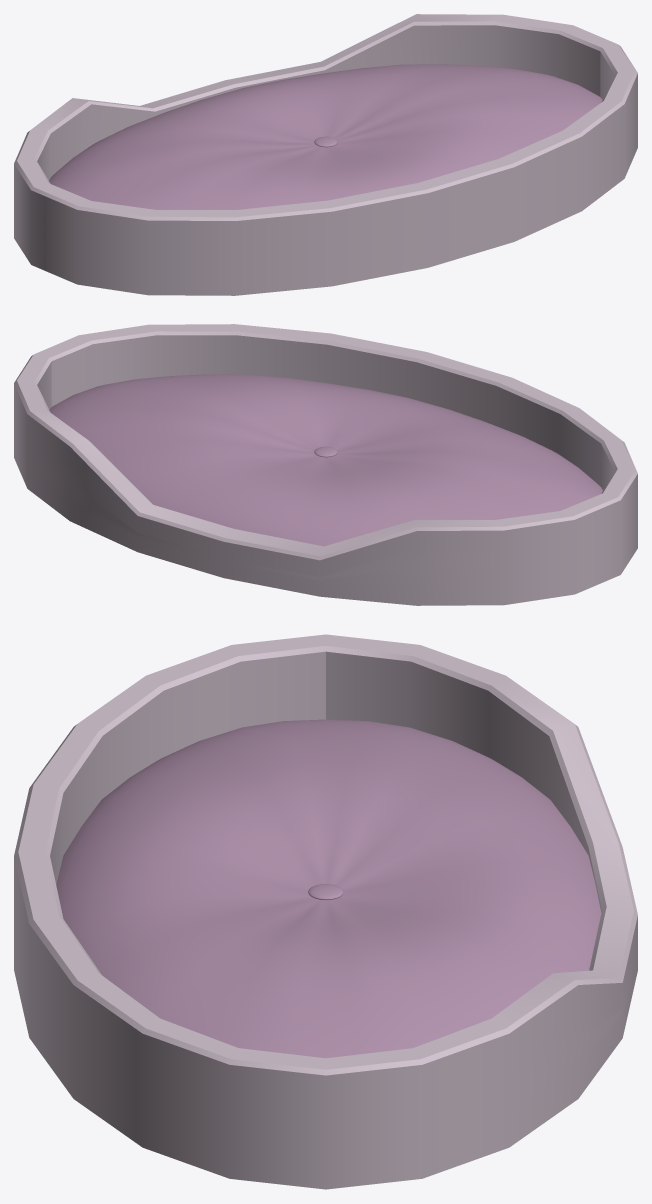
Rendered from panierHP.fbx.
3 renders of one model, top to bottom at view 1: azimuth 30°, elevation 25°; view 2: azimuth 150°, elevation 25°; view 3: azimuth 270°, elevation 25°, orthographic. The views are drawn at different scales.
Visible parts, largest first — view 1: pSphere3; view 2: pSphere3; view 3: pSphere3.
Part boxes in pixels (x1,y1,x2,y2): pSphere3: (14, 14, 637, 295); pSphere3: (14, 324, 637, 605); pSphere3: (14, 634, 637, 1189).
Size of the model in its own units: 3.82 by 0.4804 by 2.29.
